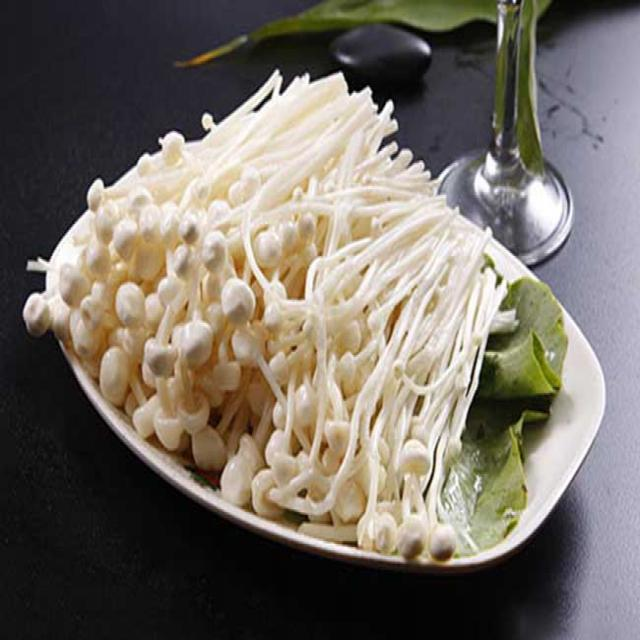Flammulina velutiper: (25, 64, 505, 557)
